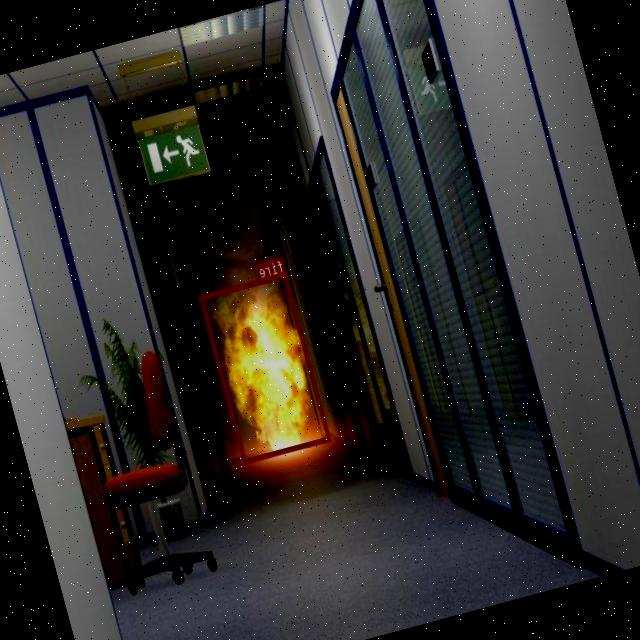fire: (199, 272, 331, 462)
